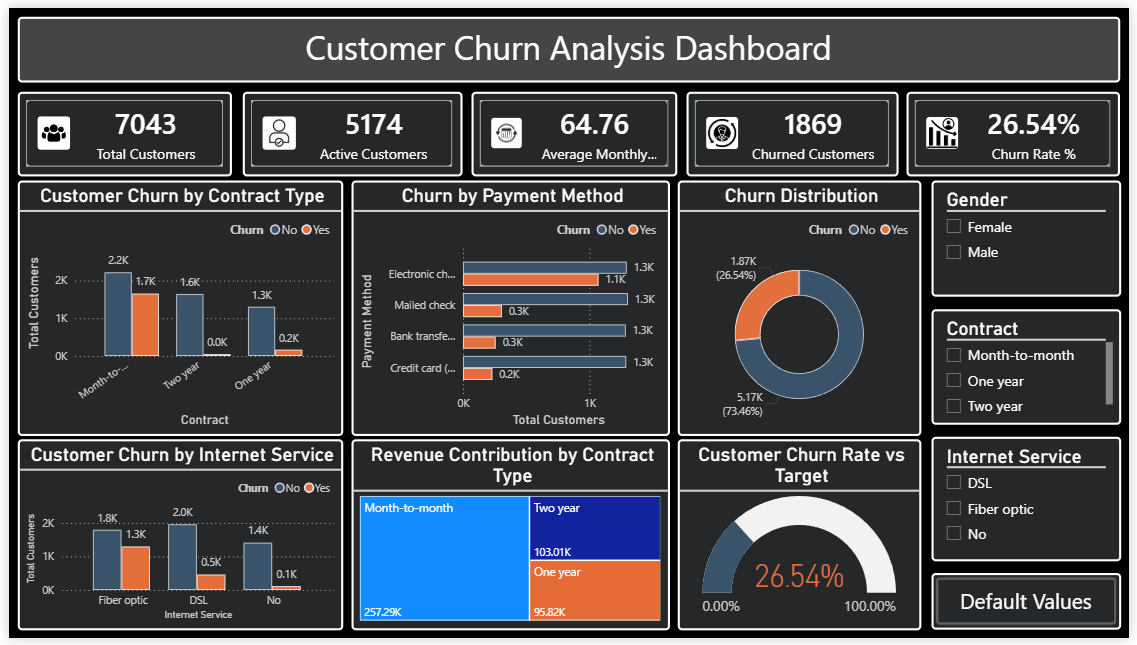

What the dashboard file says about the page in this screenshot:
{"tool":"powerbi","page":{"name":"Executive Dashboard","canvas":[1280,720],"ordinal":0},"visuals":[{"type":"cardVisual","title":"Total Customers","fields":{"Data":["Telco-Customer-Data.Total Customers"]},"box":[10,95.5,245.2,96.9],"z":0},{"type":"cardVisual","title":"Churned Customers","fields":{"Data":["Telco-Customer-Data.Churned Customers"]},"box":[774,95.5,242.3,96.9],"z":1000},{"type":"cardVisual","title":"Active Customers","fields":{"Data":["Telco-Customer-Data.Active Customers"]},"box":[266.5,95.5,250.9,96.9],"z":2000},{"type":"cardVisual","title":"Churn Rate","fields":{"Data":["Telco-Customer-Data.Churn Rate %"]},"box":[1026.3,95.5,243.7,96.9],"z":3000},{"type":"cardVisual","title":"Avg Monthly Charges","fields":{"Data":["Telco-Customer-Data.Average Monthly Charges"]},"box":[528.8,95.5,235.2,96.9],"z":4000},{"type":"clusteredColumnChart","title":"Customer Churn by Contract Type","fields":{"Category":["Telco-Customer-Data.Contract"],"Y":["Count(Telco-Customer-Data.customerID)"],"Series":["Telco-Customer-Data.Churn"]},"box":[9.6,197.6,371.9,292.3],"z":5000},{"type":"clusteredColumnChart","title":"Customer Churn by Internet Service","fields":{"Category":["Telco-Customer-Data.InternetService"],"Y":["Count(Telco-Customer-Data.customerID)"],"Series":["Telco-Customer-Data.Churn"]},"box":[9.6,492.6,371.9,218.2],"z":6000},{"type":"clusteredBarChart","title":"Churn by Payment Method","fields":{"Category":["Telco-Customer-Data.PaymentMethod"],"Y":["Count(Telco-Customer-Data.customerID)"],"Series":["Telco-Customer-Data.Churn"]},"box":[391.1,197.6,363.6,292.3],"z":7000},{"type":"donutChart","title":"Churn Distribution","fields":{"Category":["Telco-Customer-Data.Churn"],"Y":["Count(Telco-Customer-Data.customerID)"]},"box":[764.3,197.6,278.6,292.3],"z":8000},{"type":"treemap","title":"Revenue Contribution by Contract Type","fields":{"Group":["Telco-Customer-Data.Contract"],"Values":["Sum(Telco-Customer-Data.MonthlyCharges)"]},"box":[391.1,492.6,363.6,218.2],"z":9000},{"type":"slicer","title":"Gender","fields":{"Values":["Telco-Customer-Data.gender"]},"box":[1053.9,197.6,216.8,133.1],"z":10000},{"type":"slicer","fields":{"Values":["Telco-Customer-Data.Contract"]},"box":[1053.9,344.4,216.8,131.7],"z":11000},{"type":"slicer","fields":{"Values":["Telco-Customer-Data.InternetService"]},"box":[1053.9,489.9,216.8,142.7],"z":12000},{"type":"textbox","box":[10,10,1260,75.5],"z":13000},{"type":"gauge","title":"Customer Churn Rate vs Target","fields":{"Y":["Telco-Customer-Data.Churn Rate %"],"TargetValue":["Telco-Customer-Data.Target Churn Rate"]},"box":[764.3,492.6,278.6,218.2],"z":14000},{"type":"actionButton","title":"Default Values","box":[1053.9,646.3,216.8,64.5],"z":15000}]}

Visuals, with their boxes in screenshot pixels (x1, y1, x2, y2), scaled from the page's 1280x720 canvas onto the 1137x645 screenshot:
"Total Customers" cardVisual: select_region(9, 86, 227, 172)
"Churned Customers" cardVisual: select_region(688, 86, 903, 172)
"Active Customers" cardVisual: select_region(237, 86, 460, 172)
"Churn Rate" cardVisual: select_region(912, 86, 1128, 172)
"Avg Monthly Charges" cardVisual: select_region(470, 86, 679, 172)
"Customer Churn by Contract Type" clusteredColumnChart: select_region(9, 177, 339, 439)
"Customer Churn by Internet Service" clusteredColumnChart: select_region(9, 441, 339, 637)
"Churn by Payment Method" clusteredBarChart: select_region(347, 177, 670, 439)
"Churn Distribution" donutChart: select_region(679, 177, 926, 439)
"Revenue Contribution by Contract Type" treemap: select_region(347, 441, 670, 637)
"Gender" slicer: select_region(936, 177, 1129, 296)
slicer - Telco-Customer-Data.Contract: select_region(936, 309, 1129, 427)
slicer - Telco-Customer-Data.InternetService: select_region(936, 439, 1129, 567)
textbox: select_region(9, 9, 1128, 77)
"Customer Churn Rate vs Target" gauge: select_region(679, 441, 926, 637)
"Default Values" actionButton: select_region(936, 579, 1129, 637)
